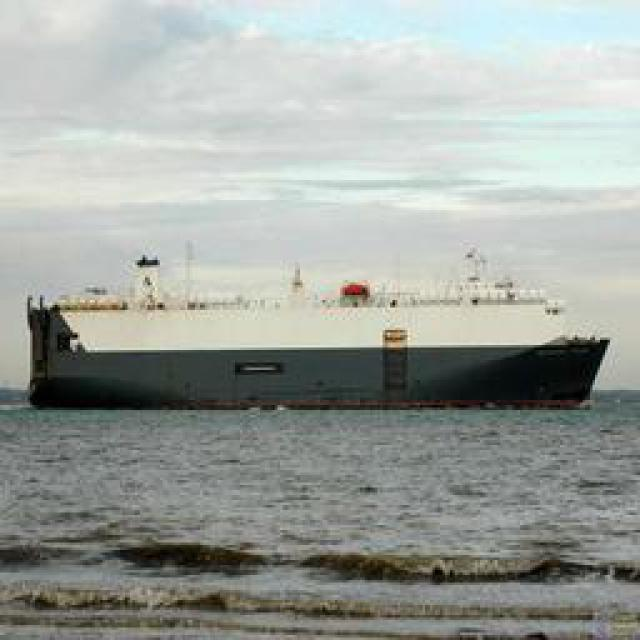Ship: (27, 276, 615, 416)
